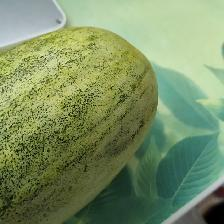gua: (30, 49, 139, 175)
